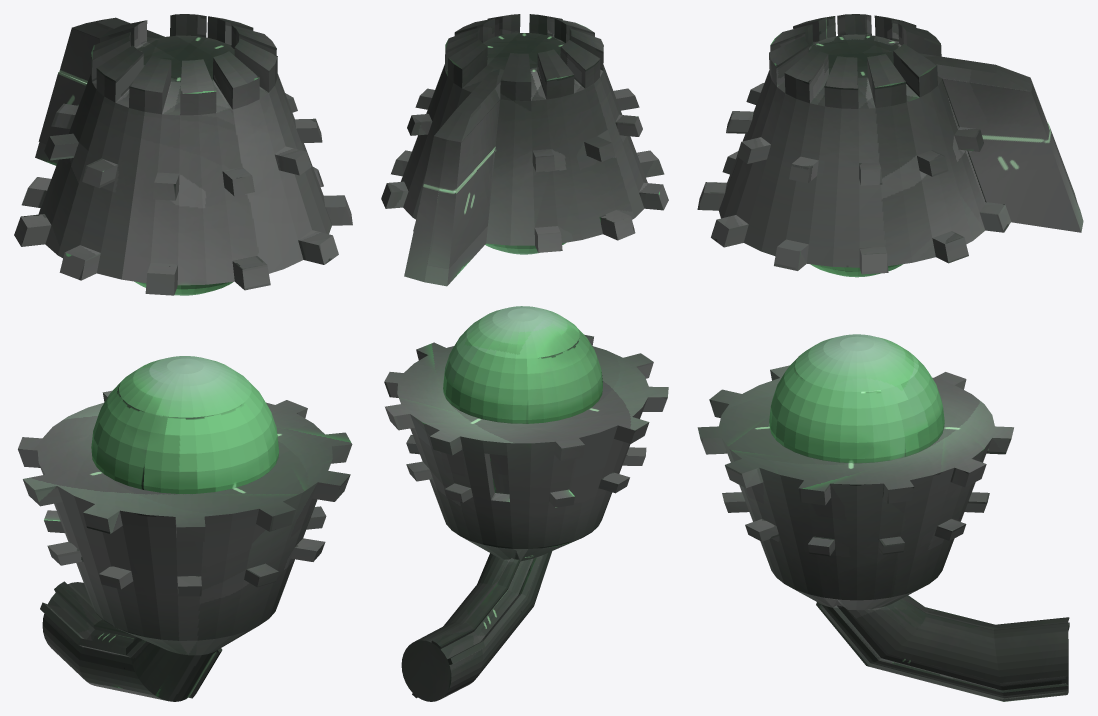
The model's file is Generator.fbx.
3 renders of one model, left to right at view 1: azimuth 30°, elevation 25°; view 2: azimuth 150°, elevation 25°; view 3: azimuth 270°, elevation 25°, orthographic. The views are drawn at different scales.
Visible parts, largest first — view 1: Sphere; view 2: Sphere; view 3: Sphere.
Boxes of the visible parts, x1,y1,x2,y2 form: Sphere: (14,14,352,701); Sphere: (381,14,668,701); Sphere: (697,14,1083,701).
Size of the model in its own units: 296 by 685 by 363.
1 material, 1 textured.
